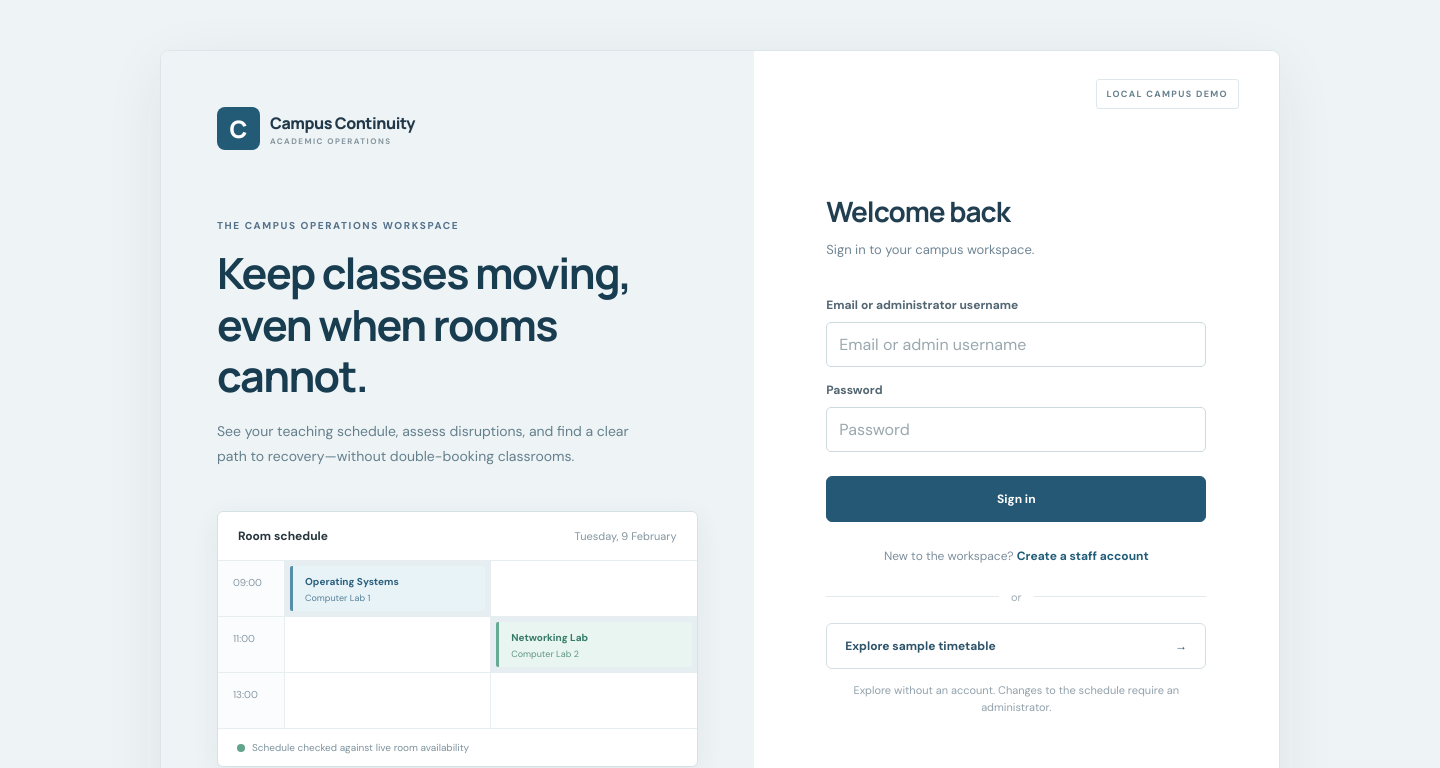
Scenario: redesigned campus portal › rejects mismatched password confirmation locally
The image size is (1440, 768).
Click the button "Create a staff account" at x=1083, y=556, box [1017,544,1149,568]
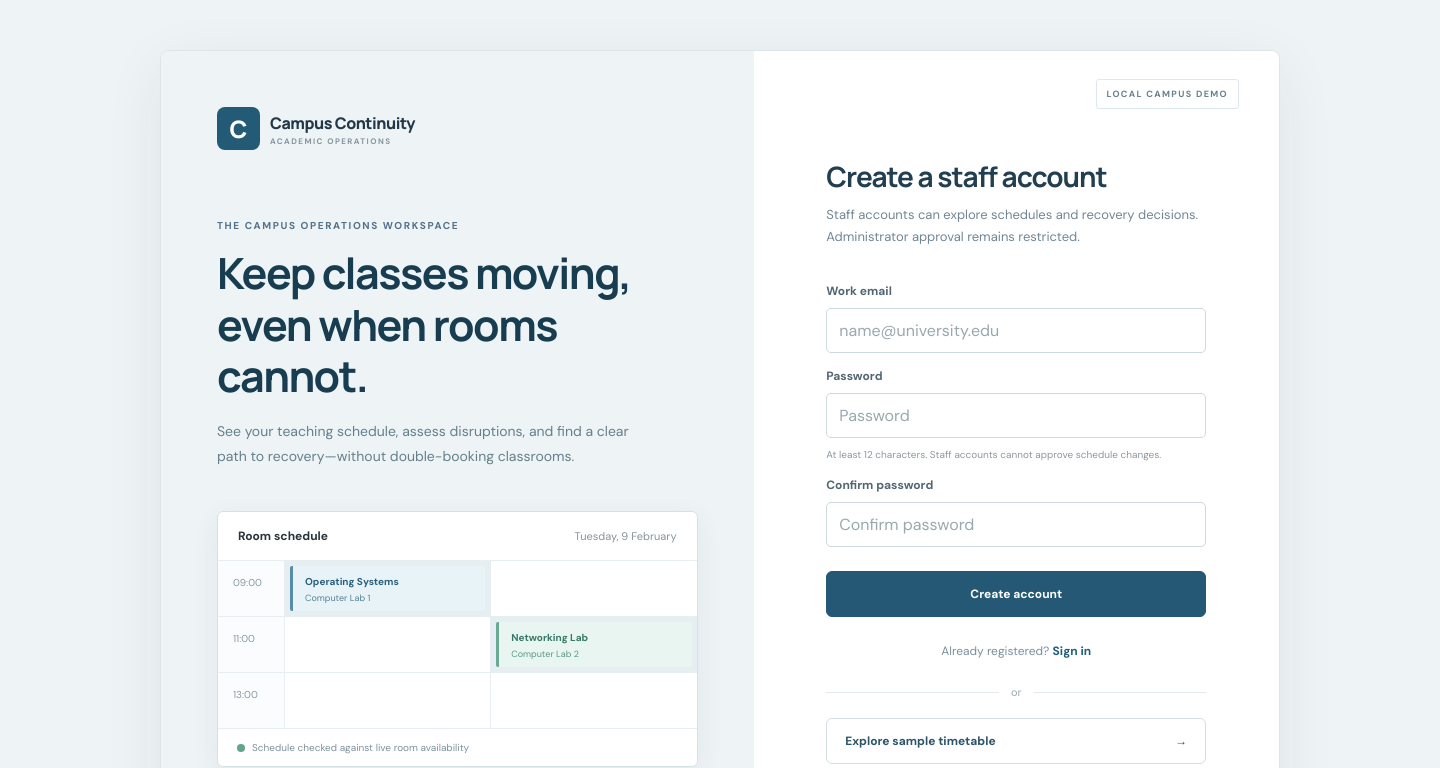
Type "staff@example.edu" into the field with placeholder "name@university.edu" at x=1016, y=331, box [826,308,1206,353]
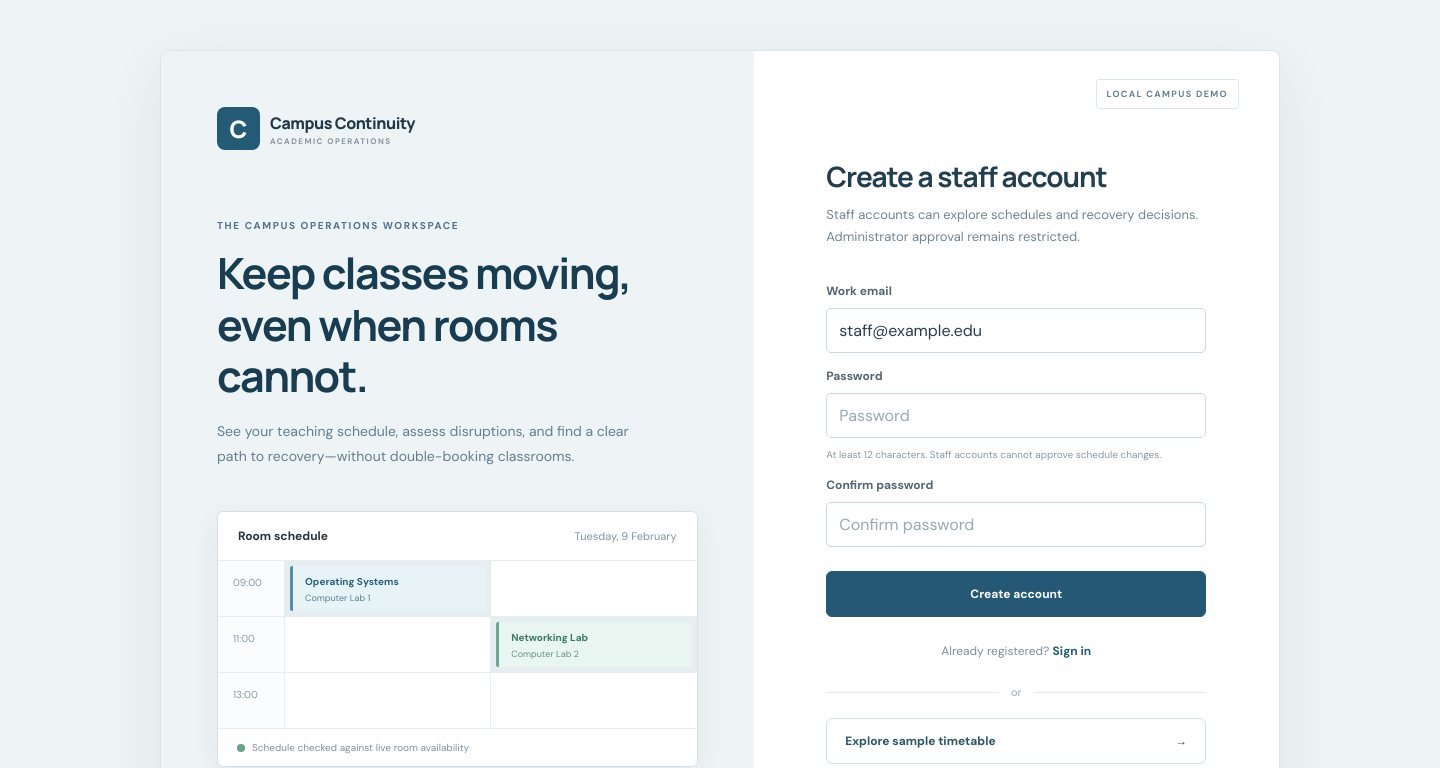
Type "testing-passphrase-2027" into the password field with placeholder "Password" at x=1016, y=416, box [826,393,1206,438]
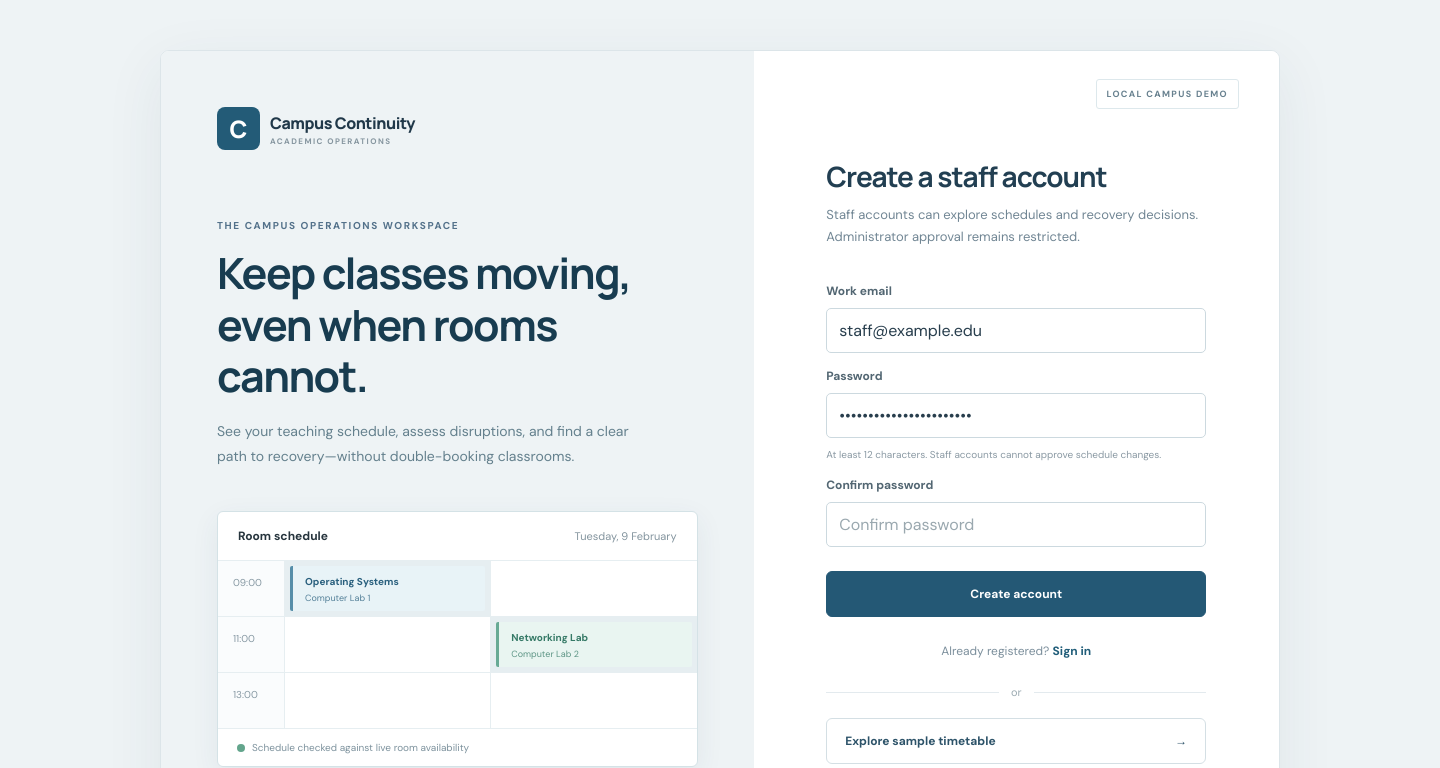
Type "not-the-same-passphrase" into the password field with placeholder "Confirm password" at x=1016, y=525, box [826,502,1206,547]
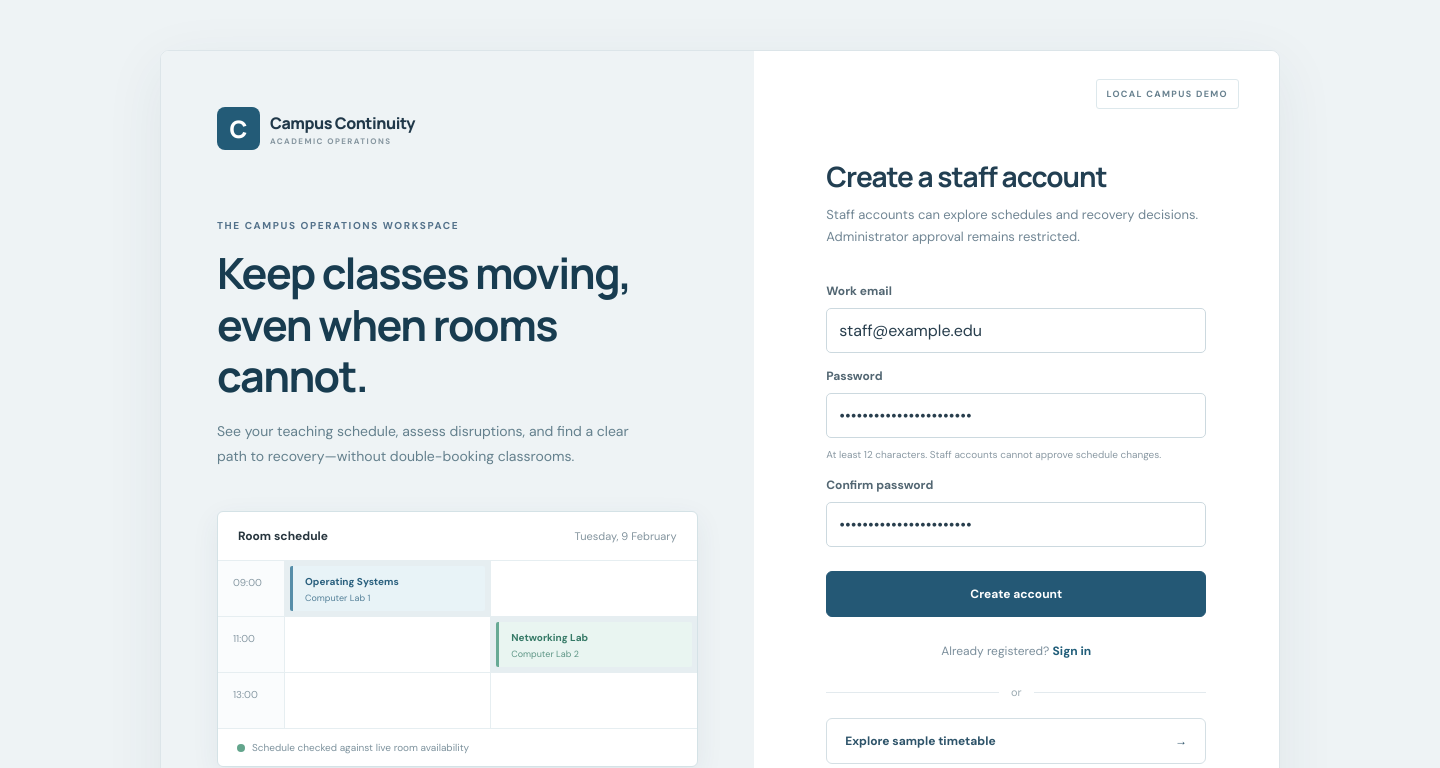
Click the button "Create account" at x=1016, y=594, box [826,571,1206,617]
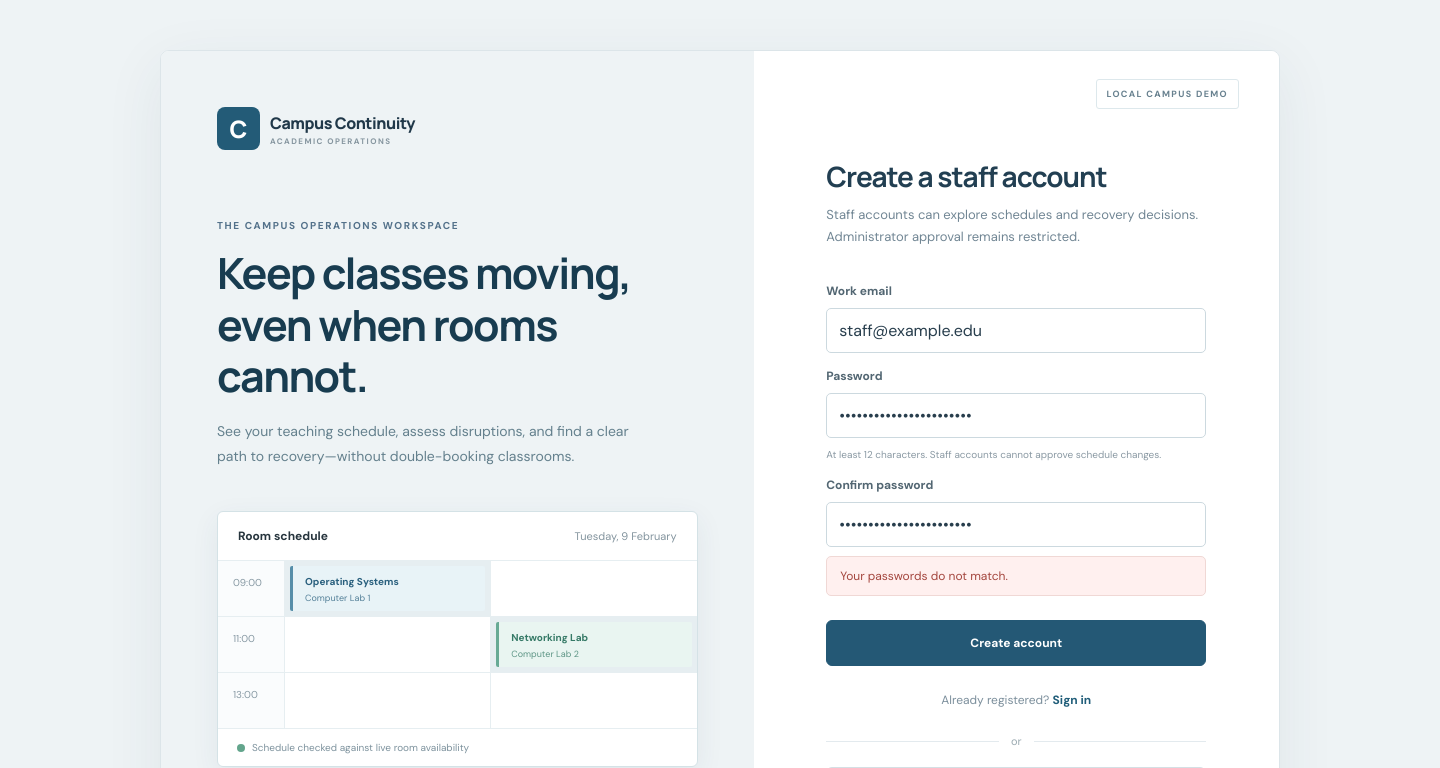
Now the text "Your passwords do not match." is shown, box [826,556,1206,596]
